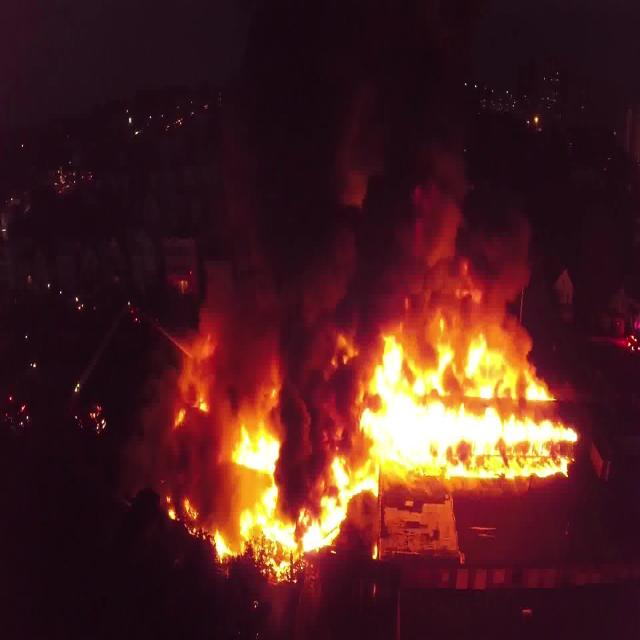Fire: (158, 336, 580, 576)
Smoke: (166, 24, 526, 514)
